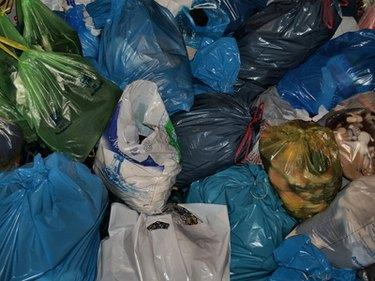LDPE: (0, 154, 107, 281), (189, 164, 292, 281), (16, 47, 118, 161), (95, 80, 180, 213), (95, 0, 193, 112), (256, 28, 375, 120), (98, 203, 230, 281), (236, 0, 342, 93), (257, 117, 341, 219), (284, 176, 375, 268), (171, 94, 259, 188), (318, 108, 375, 179), (269, 234, 354, 281)
